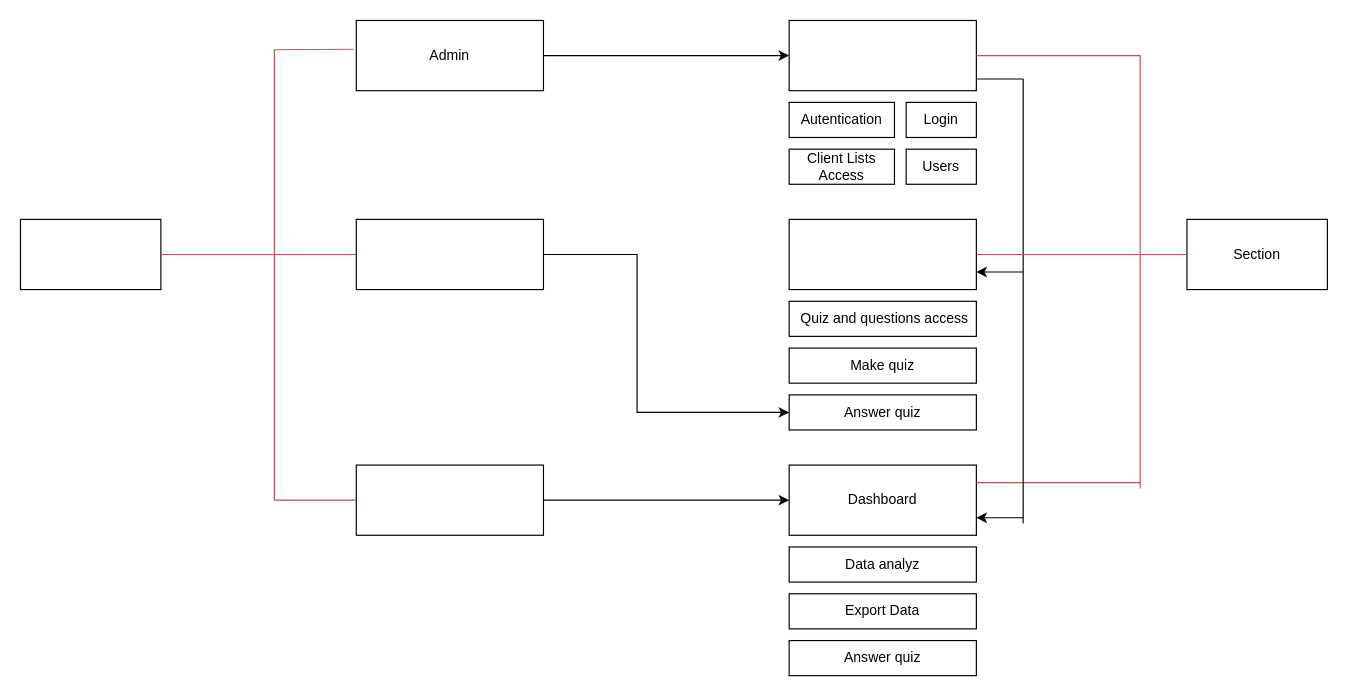
This 1348x696 diagram has some shape labels left out. The centre of each missing label's shape, as x and y in pixels:
Administration: the point at 882,55
Client: the point at 449,254
Data analyst: the point at 449,499
Quiz: the point at 882,254
User: the point at 90,254
